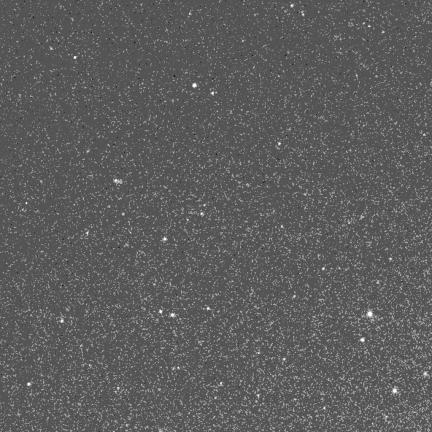blob: (393, 388, 397, 393), (368, 311, 372, 316), (193, 83, 197, 88), (60, 318, 64, 322), (171, 313, 175, 317), (207, 307, 211, 311), (211, 92, 215, 96), (283, 358, 287, 362), (27, 382, 31, 386), (201, 212, 205, 216), (291, 4, 295, 8), (74, 56, 78, 60), (278, 142, 282, 146), (163, 237, 167, 241), (117, 387, 121, 391), (159, 310, 162, 314), (322, 267, 325, 271), (389, 258, 393, 261), (361, 338, 364, 342), (424, 372, 427, 375), (122, 213, 125, 216), (26, 202, 28, 205)
